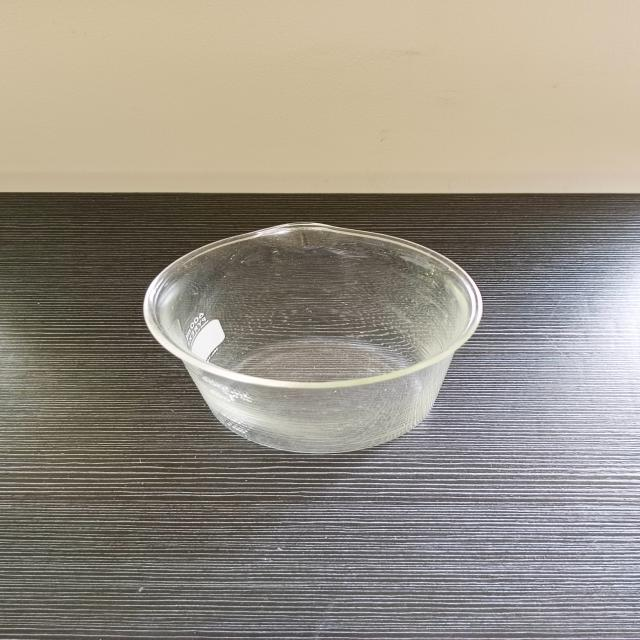beaker: (133, 215, 496, 461)
